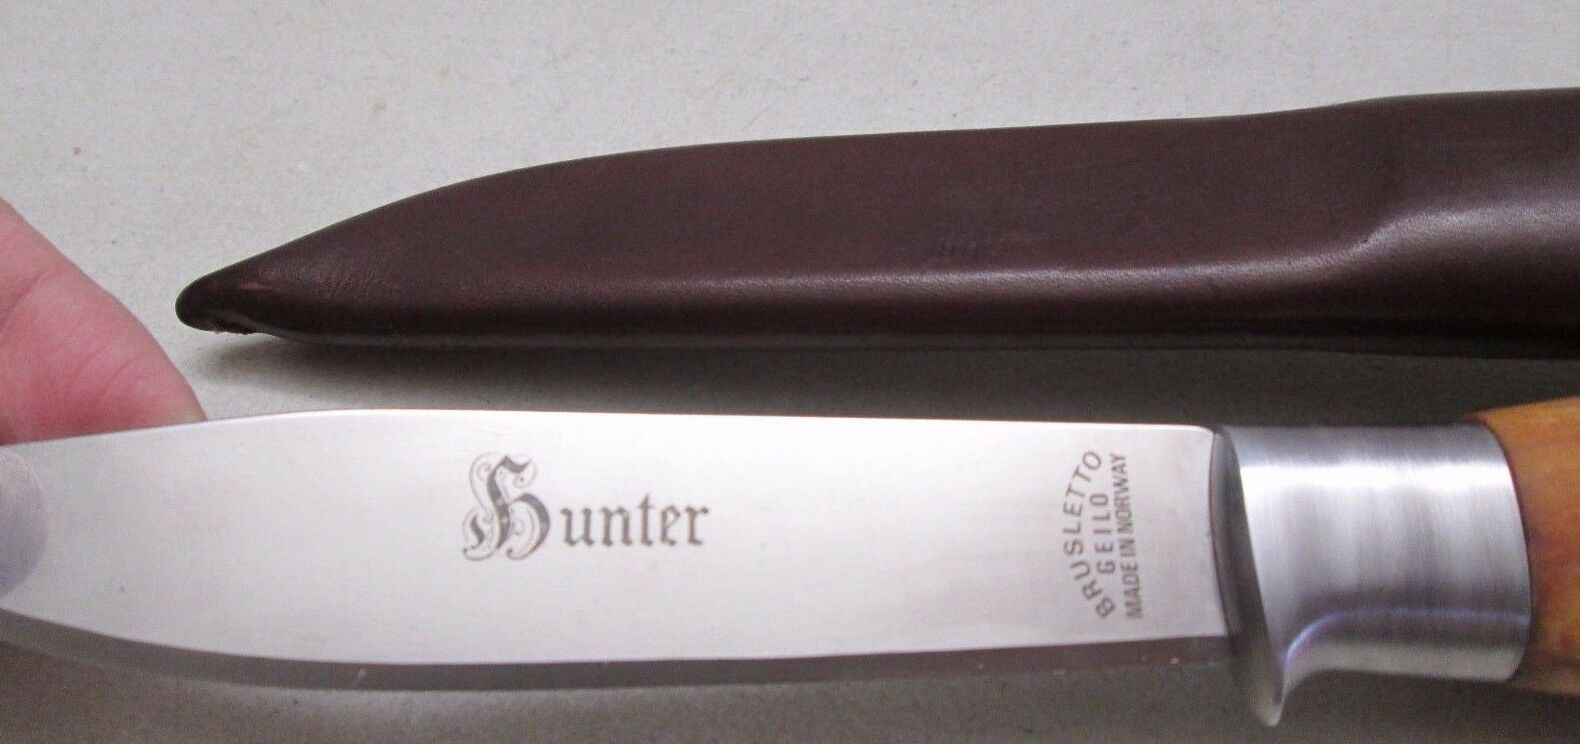knief: (7, 423, 1573, 708)
